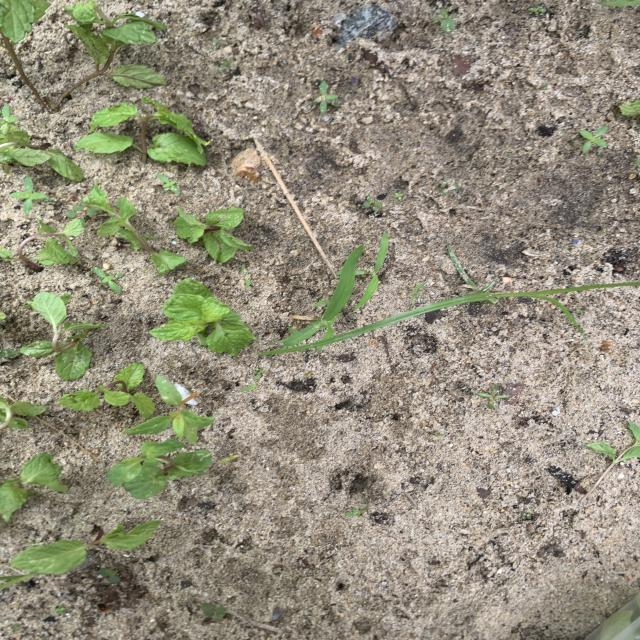crop: (2, 1, 166, 110), (86, 185, 184, 273), (78, 99, 208, 163), (11, 522, 160, 575), (150, 279, 254, 353), (19, 293, 105, 379), (108, 439, 210, 498), (1, 110, 82, 179), (61, 363, 153, 411), (1, 454, 67, 520), (0, 219, 83, 270), (175, 208, 251, 261), (587, 422, 639, 464), (1, 397, 45, 429)
weed: (260, 245, 640, 355), (281, 245, 364, 346), (123, 375, 214, 444), (355, 233, 388, 311), (12, 177, 49, 214), (476, 383, 524, 407), (151, 250, 186, 275), (313, 81, 339, 112), (580, 126, 607, 151), (95, 267, 122, 291), (433, 8, 457, 31), (240, 368, 263, 392), (66, 202, 95, 217), (158, 174, 179, 193), (203, 603, 226, 620), (439, 177, 459, 195), (363, 196, 383, 213), (100, 568, 119, 582), (241, 265, 251, 289), (345, 507, 367, 515), (54, 605, 69, 615), (1, 349, 19, 357), (529, 6, 546, 14), (221, 59, 235, 68), (220, 455, 238, 462), (394, 193, 403, 199)
